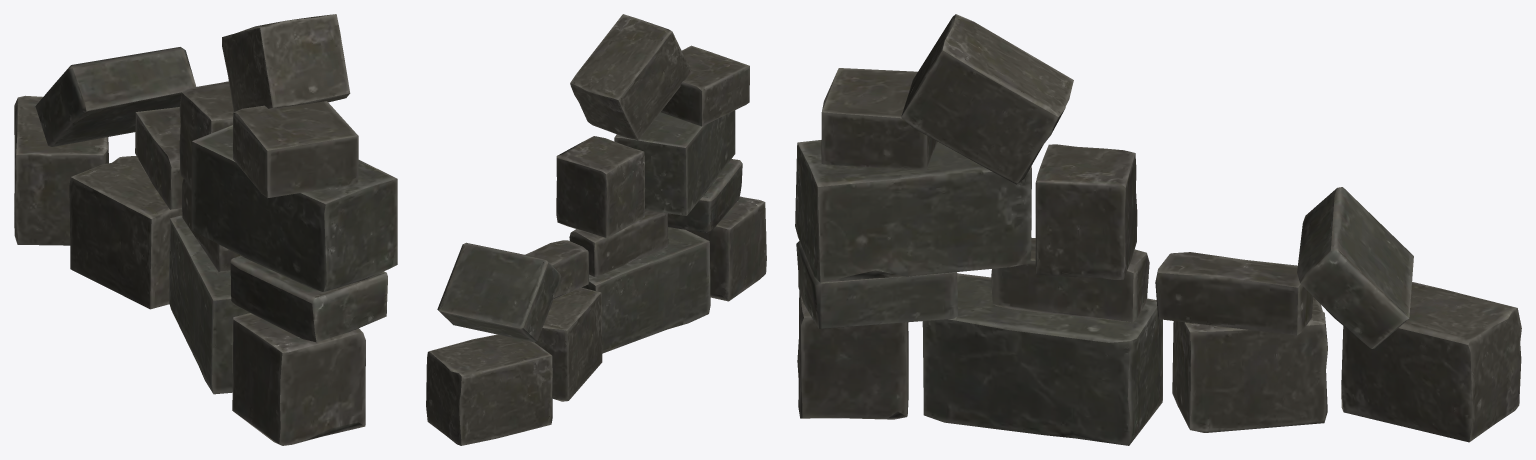
3 views of the same model, side by side, from view 1: azimuth 30°, elevation 25°; view 2: azimuth 150°, elevation 25°; view 3: azimuth 270°, elevation 25° (orthographic). The views are drawn at different scales.
Visible parts, largest first — view 1: SM_Greathall_Wall_8x4_Broken_Top_03_LOD0; view 2: SM_Greathall_Wall_8x4_Broken_Top_03_LOD0; view 3: SM_Greathall_Wall_8x4_Broken_Top_03_LOD0.
Boxes of the visible parts, x1=… form: SM_Greathall_Wall_8x4_Broken_Top_03_LOD0: x1=14, y1=14, x2=397, y2=445; SM_Greathall_Wall_8x4_Broken_Top_03_LOD0: x1=426, y1=14, x2=766, y2=445; SM_Greathall_Wall_8x4_Broken_Top_03_LOD0: x1=795, y1=14, x2=1521, y2=445.
Size of the model in its own units: 1.97 by 4.49 by 7.54.
